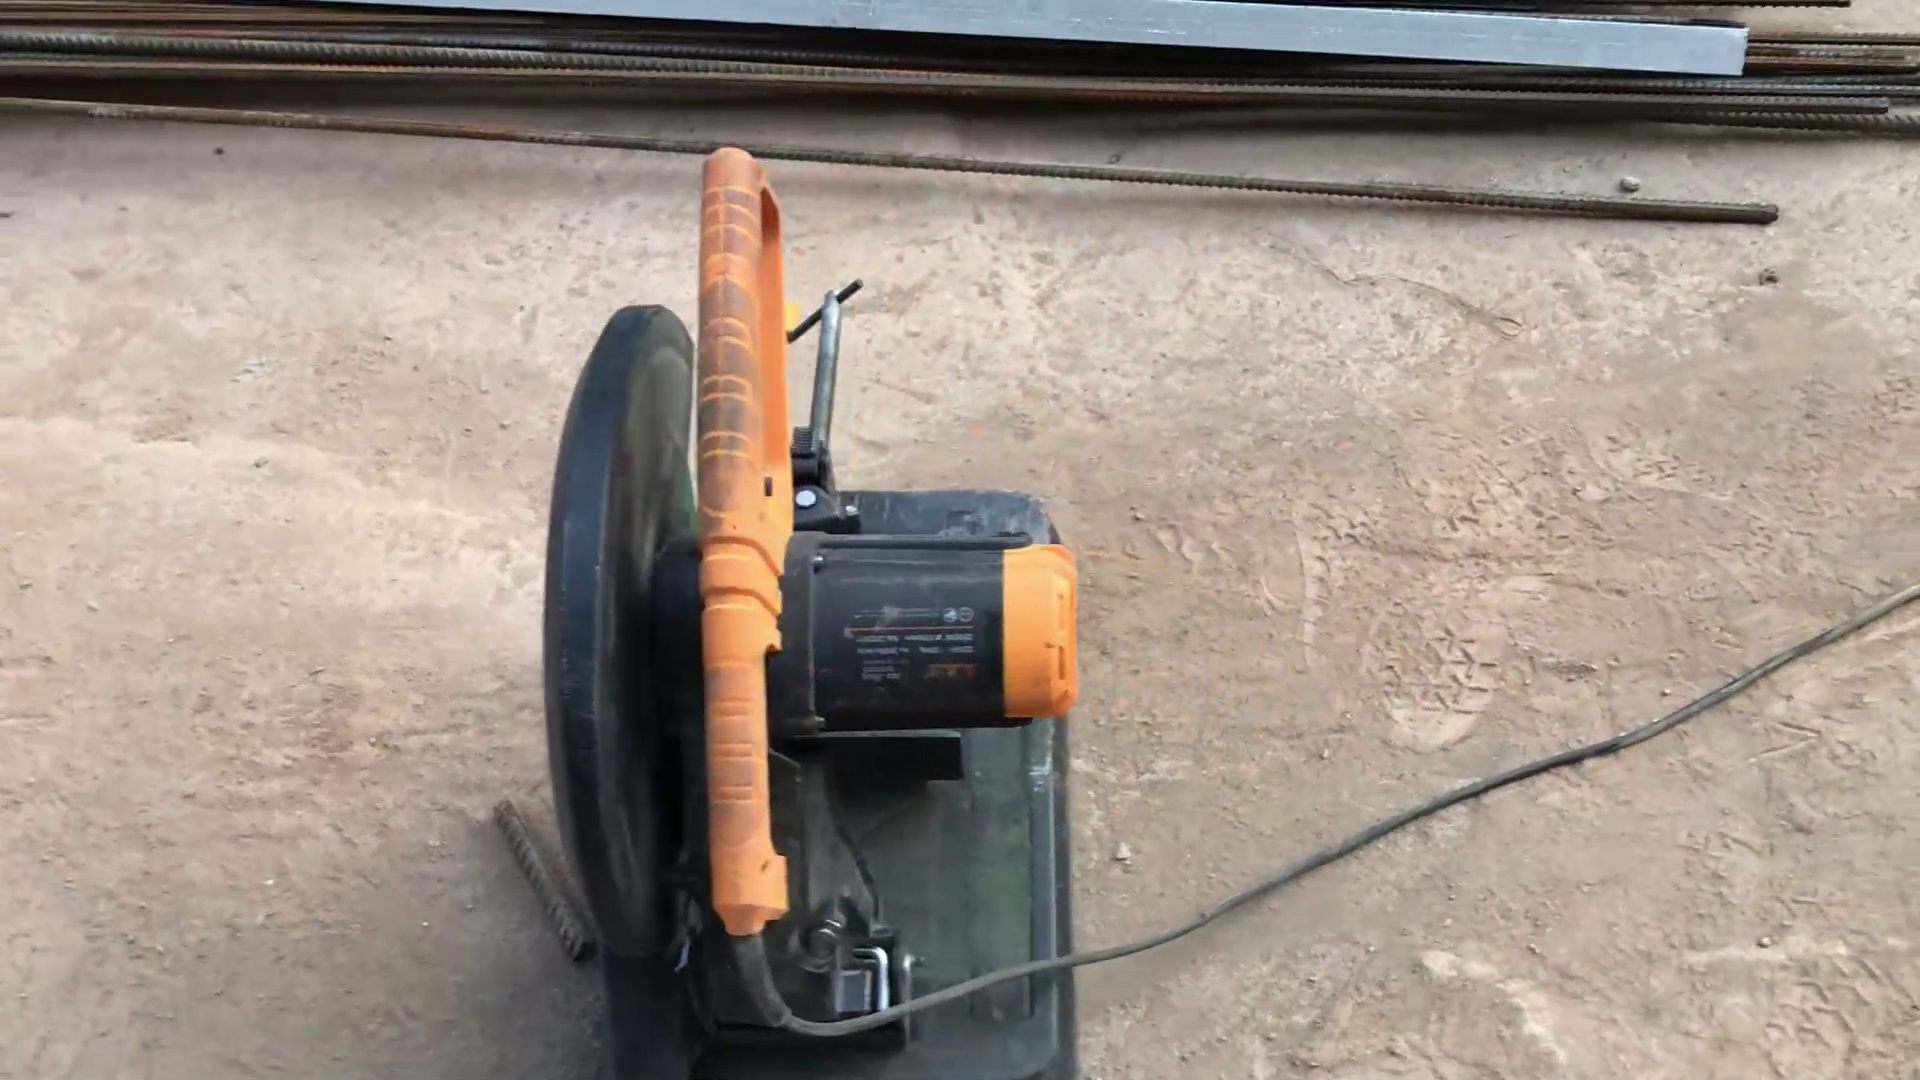cutter: (496, 136, 1151, 1080)
